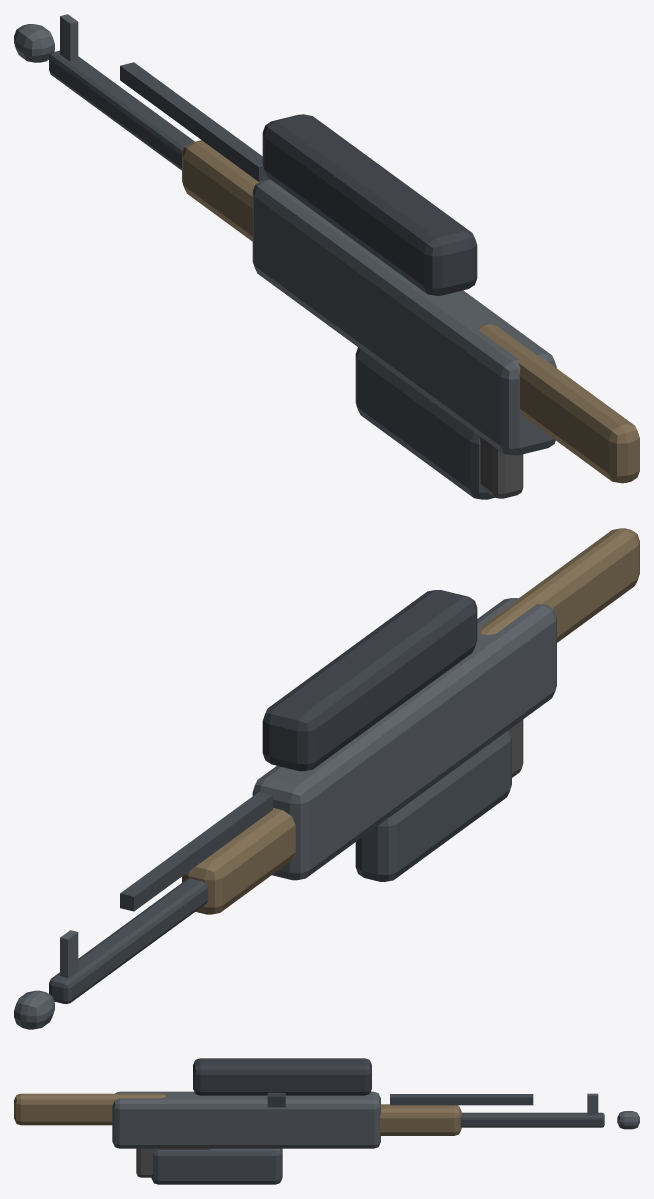
The model's file is weapon_ak47.glb.
3 renders of one model, top to bottom at view 1: azimuth 30°, elevation 25°; view 2: azimuth 150°, elevation 25°; view 3: azimuth 270°, elevation 25°, orthographic. The views are drawn at different scales.
Parts seen in each view (by area): view 1: AK_Receiver, AK_Cover, AK_Stock, AK_Mag, AK_Barrel, AK_HGuard, AK_GasTube, AK_Grip, AK_Muzzle, AK_FSight; view 2: AK_Receiver, AK_Cover, AK_Mag, AK_Stock, AK_HGuard, AK_Barrel, AK_GasTube, AK_Muzzle, AK_FSight; view 3: AK_Receiver, AK_Cover, AK_Mag, AK_Stock, AK_HGuard, AK_Barrel, AK_GasTube, AK_Grip, AK_Muzzle, AK_Charge, AK_FSight.
Part boxes in pixels (<box>): AK_Receiver: <box>252,179,556,455</box>; AK_Cover: <box>262,114,477,295</box>; AK_Stock: <box>478,324,639,483</box>; AK_Mag: <box>355,347,494,499</box>; AK_Barrel: <box>49,50,194,170</box>; AK_HGuard: <box>182,140,258,241</box>; AK_GasTube: <box>120,62,269,181</box>; AK_Grip: <box>479,436,523,498</box>; AK_Muzzle: <box>14,24,54,62</box>; AK_FSight: <box>60,14,78,61</box>; AK_Receiver: <box>252,598,556,880</box>; AK_Cover: <box>262,590,477,771</box>; AK_Mag: <box>355,730,511,881</box>; AK_Stock: <box>478,528,639,642</box>; AK_HGuard: <box>182,808,295,914</box>; AK_Barrel: <box>49,878,208,1003</box>; AK_GasTube: <box>120,792,272,911</box>; AK_Muzzle: <box>14,990,54,1029</box>; AK_FSight: <box>60,930,78,977</box>; AK_Receiver: <box>112,1091,380,1148</box>; AK_Cover: <box>193,1058,371,1095</box>; AK_Mag: <box>151,1148,282,1184</box>; AK_Stock: <box>14,1093,165,1125</box>; AK_HGuard: <box>380,1104,461,1135</box>; AK_Barrel: <box>460,1112,604,1127</box>; AK_GasTube: <box>390,1094,533,1105</box>; AK_Grip: <box>136,1148,211,1177</box>; AK_Muzzle: <box>617,1111,639,1129</box>; AK_Charge: <box>267,1092,285,1107</box>; AK_FSight: <box>587,1093,598,1115</box>.
Size of the model in its own units: 0.073 by 0.2225 by 1.05.
